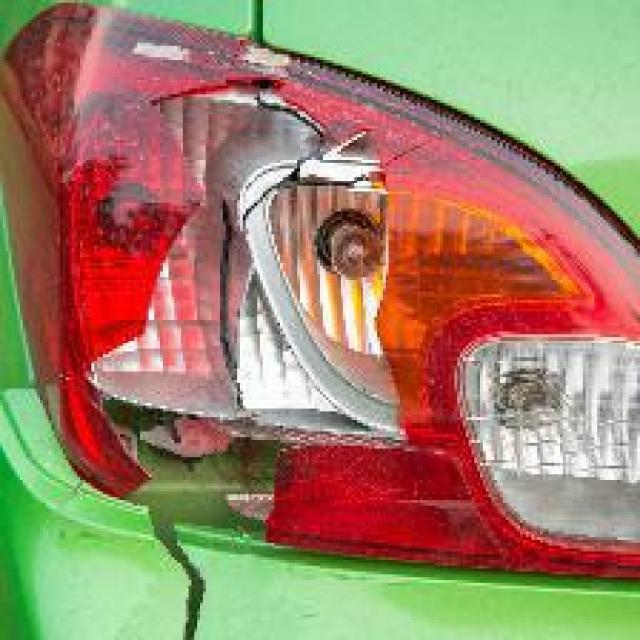damaged: (83, 80, 426, 637)
